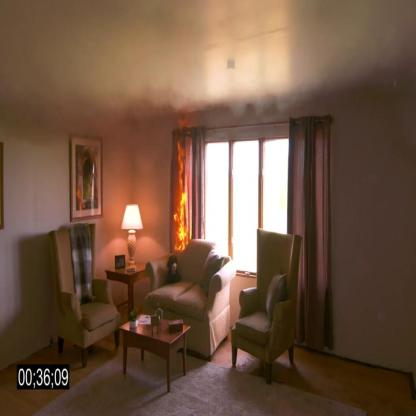fire: (172, 140, 192, 254)
